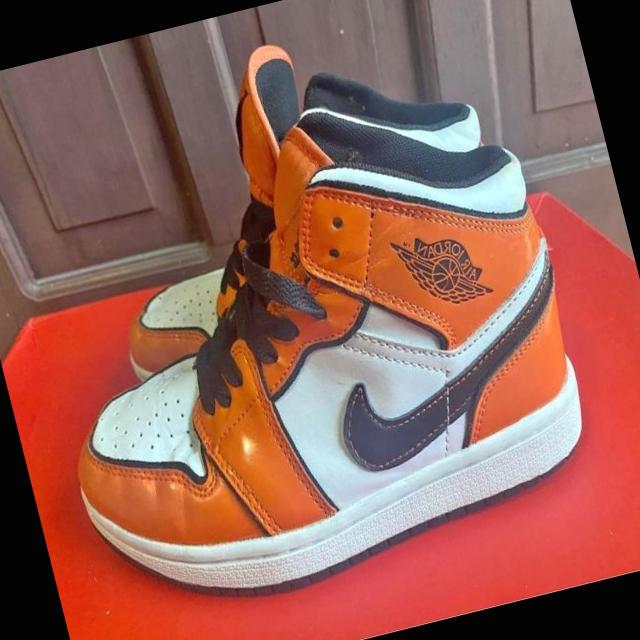nike_fake_jordan: (0, 57, 612, 638), (63, 0, 524, 387)
